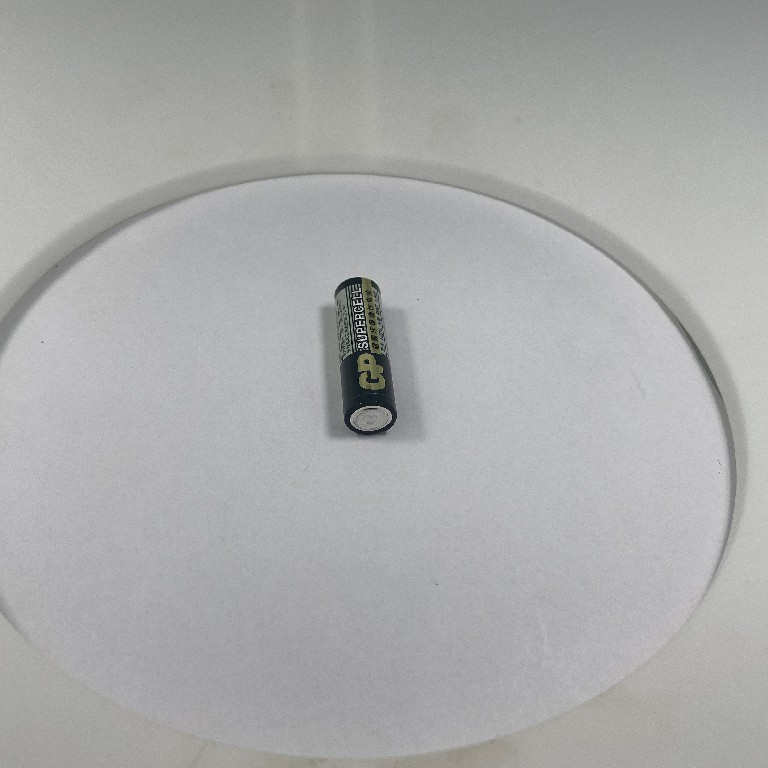charge: (329, 270, 399, 437)
